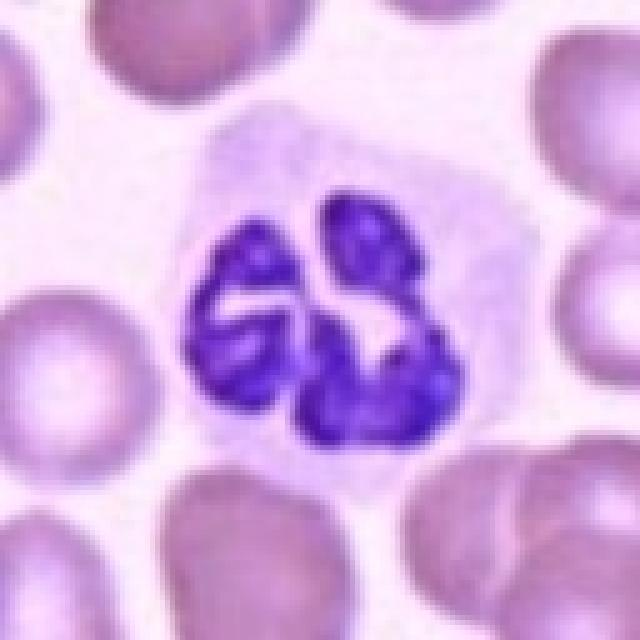neutro: (98, 114, 548, 525)
